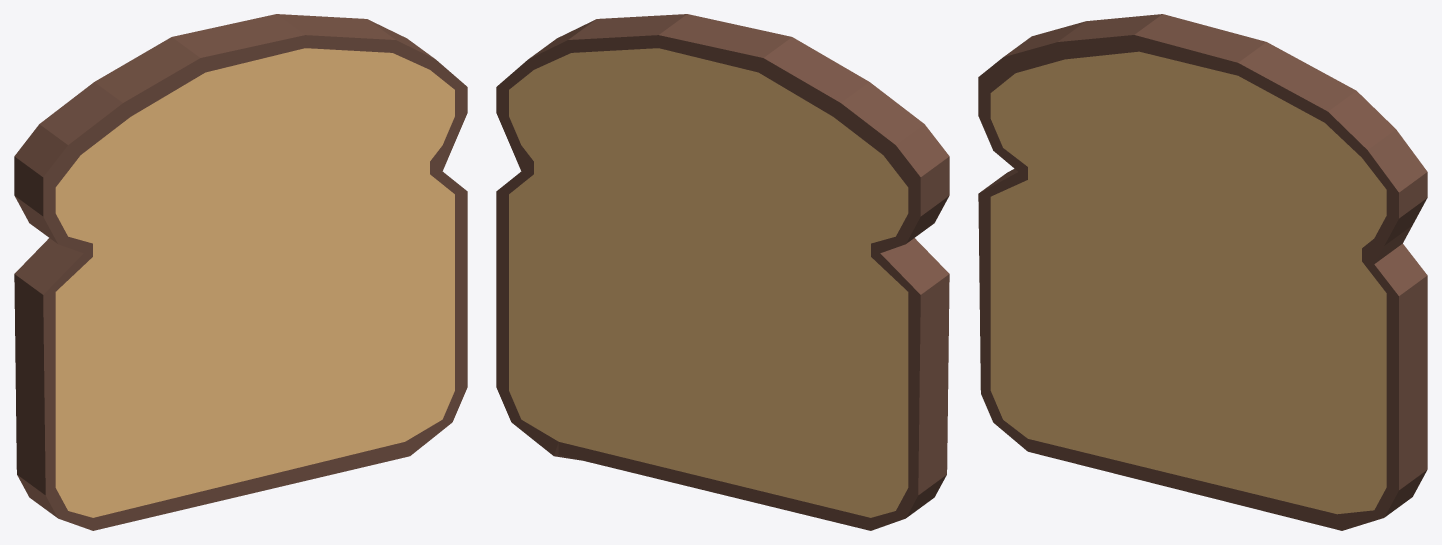
File: Bread.glb
The picture shows the model from 3 angles, left to right: view 1: azimuth 30°, elevation 25°; view 2: azimuth 150°, elevation 25°; view 3: azimuth 330°, elevation 25°; orthographic projection.
Parts seen in each view (by area): view 1: Node; view 2: Node; view 3: Node.
Part boxes in pixels (bbox=[...]): Node: bbox=[14, 14, 467, 530]; Node: bbox=[496, 14, 949, 530]; Node: bbox=[978, 14, 1427, 530].
Size of the model in its own units: 0.1483 by 0.15 by 0.0174.
